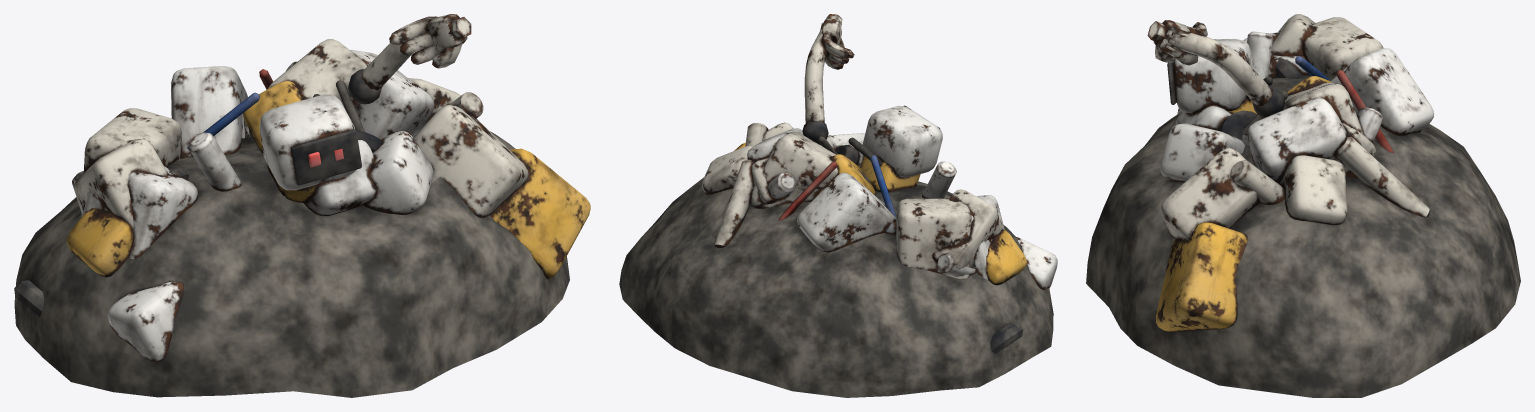
The model's file is robot_pile.fbx.
The picture shows the model from 3 angles, left to right: view 1: azimuth 30°, elevation 25°; view 2: azimuth 150°, elevation 25°; view 3: azimuth 270°, elevation 25°; orthographic projection. The views are drawn at different scales.
Visible parts, largest first — view 1: Body, Twitch; view 2: Body, Twitch; view 3: Body, Twitch.
Part boxes in pixels (box(x1,y1,x2,y2)): Body: box(14, 39, 590, 397); Twitch: box(348, 14, 471, 104); Body: box(619, 105, 1057, 397); Twitch: box(802, 14, 854, 144); Body: box(1086, 14, 1520, 397); Twitch: box(1147, 20, 1284, 118).
Size of the model in its own units: 6.09 by 3.64 by 4.74.
Materials: 1 (1 with a texture image).
